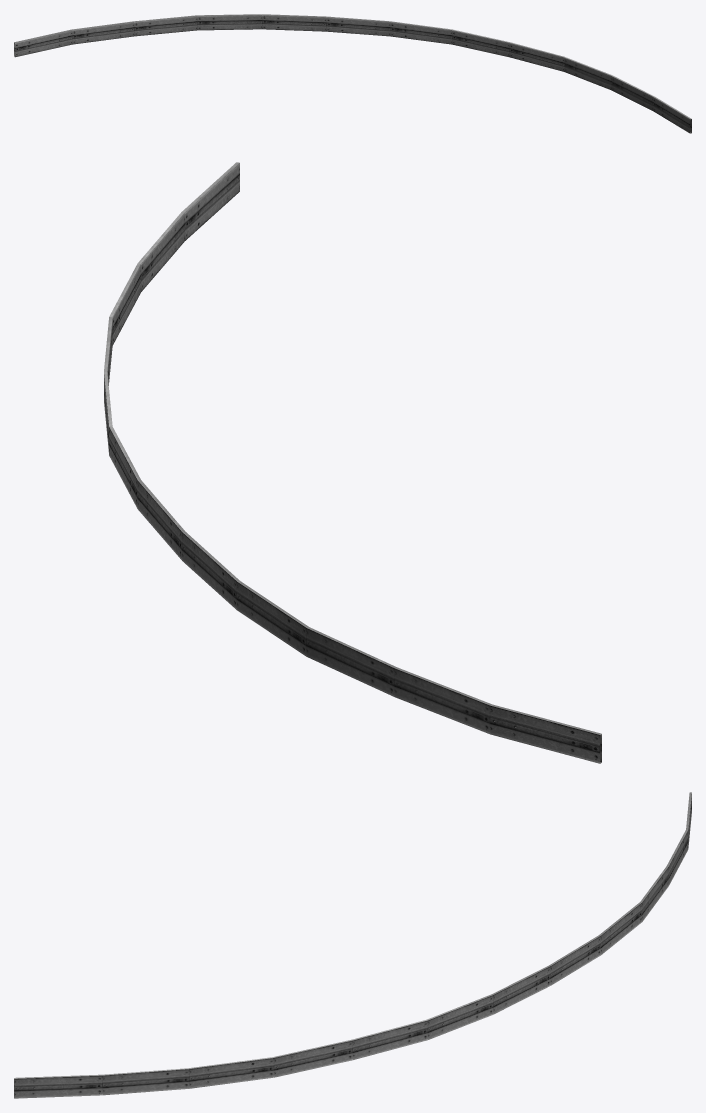
The model's file is 90guard_vs3.FBX.
3 views of the same model, one above another, from view 1: azimuth 30°, elevation 25°; view 2: azimuth 150°, elevation 25°; view 3: azimuth 270°, elevation 25° (orthographic). The views are drawn at different scales.
Visible parts, largest first — view 1: Object010; view 2: Object010; view 3: Object010.
Boxes of the visible parts, left/top/right/bottom form: Object010: left=14, top=14, right=691, bottom=133; Object010: left=104, top=162, right=601, bottom=763; Object010: left=14, top=792, right=691, bottom=1098.
Bounding box in the file's own units: 3001 × 96.2 × 3000.
